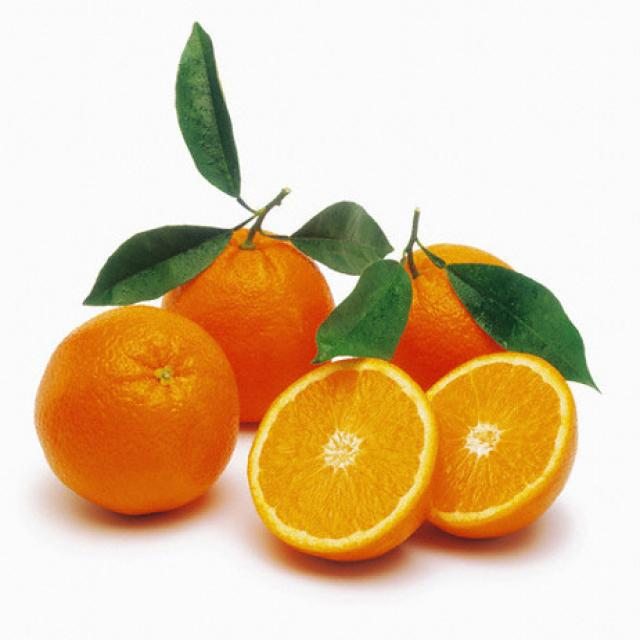orange: (32, 304, 243, 518), (248, 355, 440, 565), (159, 219, 339, 428), (416, 348, 581, 545), (368, 232, 536, 392)
